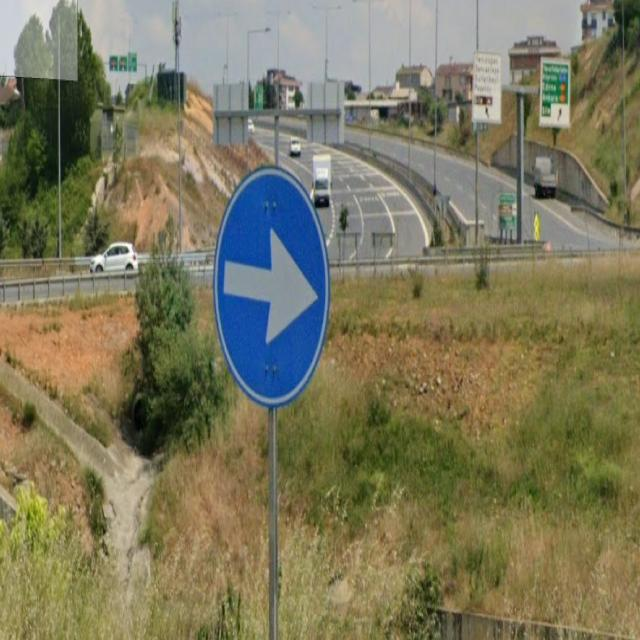Turn Right: (218, 153, 331, 416)
